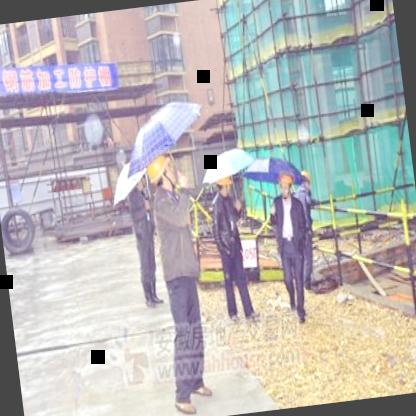helmet: (143, 154, 179, 196), (276, 170, 296, 201), (216, 170, 236, 199), (296, 164, 313, 192)
